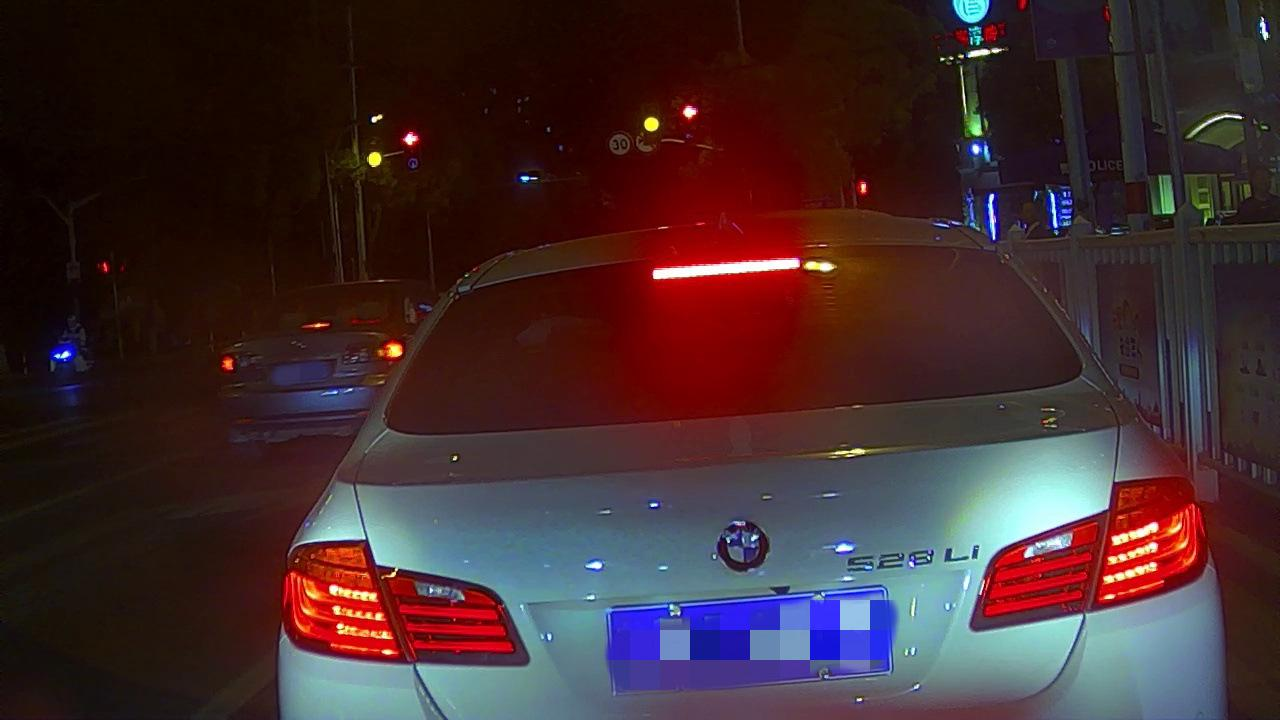traffic_light: (399, 125, 424, 150), (678, 100, 700, 123), (640, 114, 662, 135), (364, 149, 385, 170)
